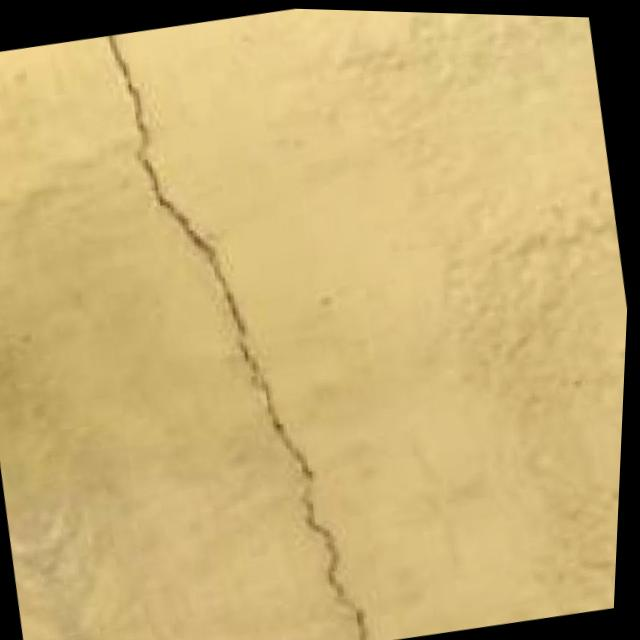Crack: (57, 2, 421, 640)
